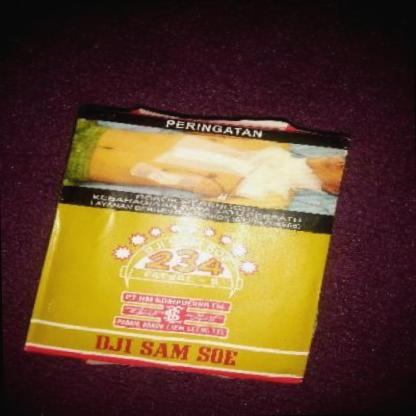objects: (20, 100, 352, 388)
